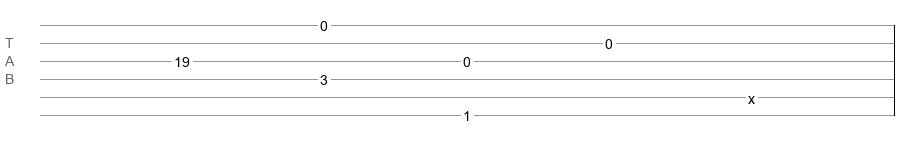0: (320, 18, 328, 28), (463, 54, 471, 64), (605, 36, 613, 46)
1: (463, 108, 471, 118)
19: (174, 54, 190, 64)
3: (320, 72, 328, 82)
x: (748, 91, 755, 99)
